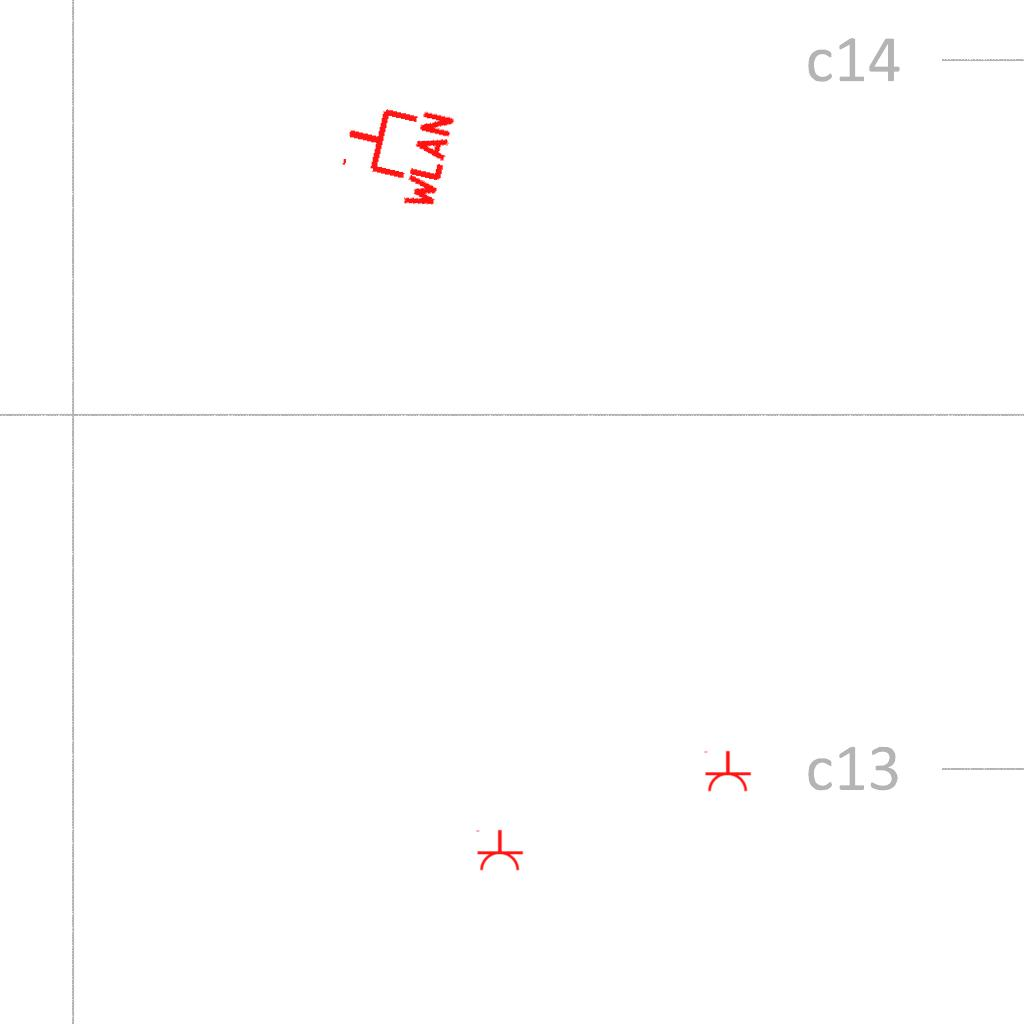Schukosteckdose_einfach: (474, 829, 524, 872), (702, 750, 752, 793)
WLAN: (331, 90, 458, 216)
